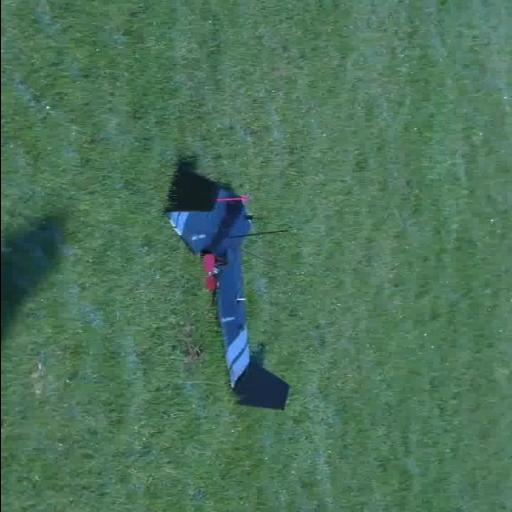uav: (161, 171, 303, 415)
